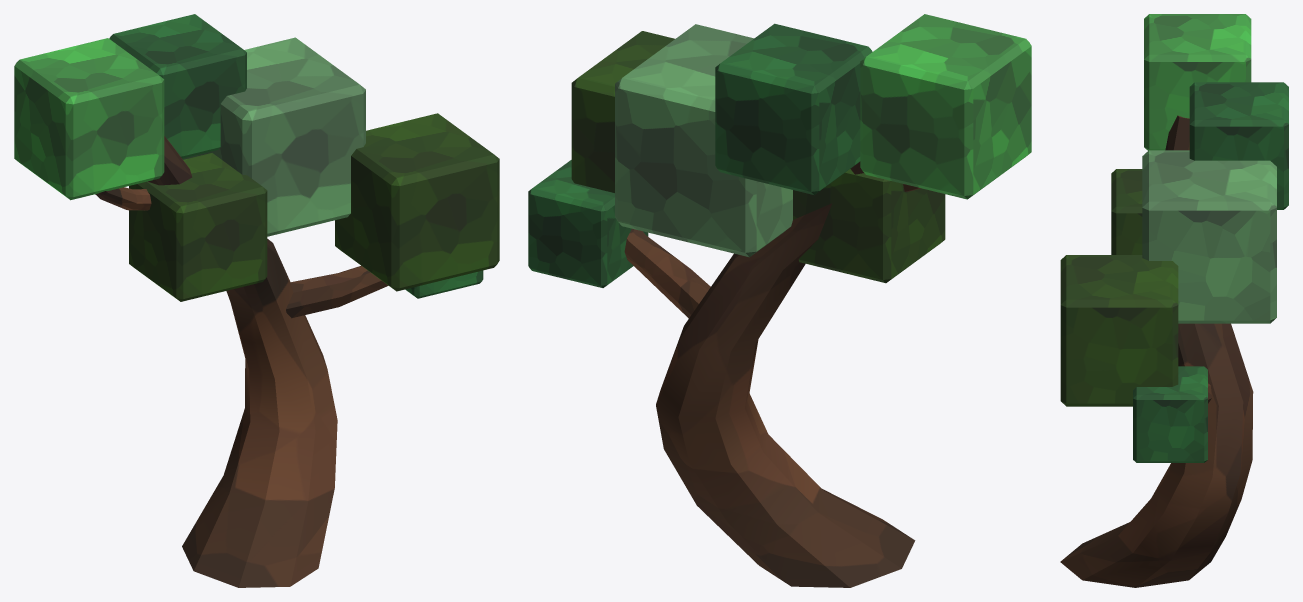
3 renders of one model, left to right at view 1: azimuth 30°, elevation 25°; view 2: azimuth 150°, elevation 25°; view 3: azimuth 270°, elevation 25°, orthographic. The views are drawn at different scales.
Parts seen in each view (by area): view 1: pCube25; view 2: pCube25; view 3: pCube25.
Boxes of the visible parts, x1,y1,x2,y2 form: pCube25: [14, 14, 499, 587]; pCube25: [528, 14, 1031, 587]; pCube25: [1060, 14, 1288, 587].
Bounding box in the file's own units: 18.27 × 21.12 × 9.34.
5 materials, 5 textured.
